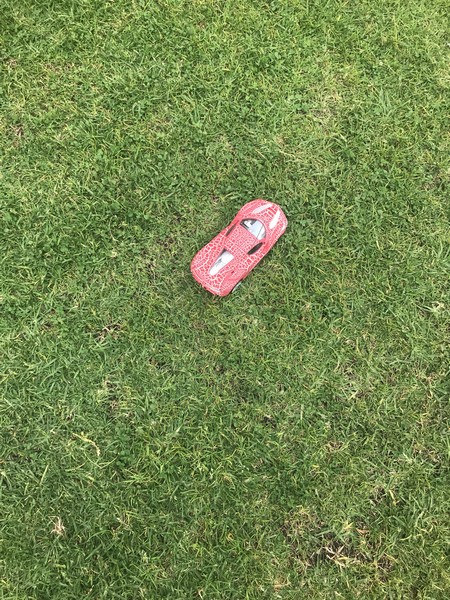RC: (188, 198, 289, 300)
